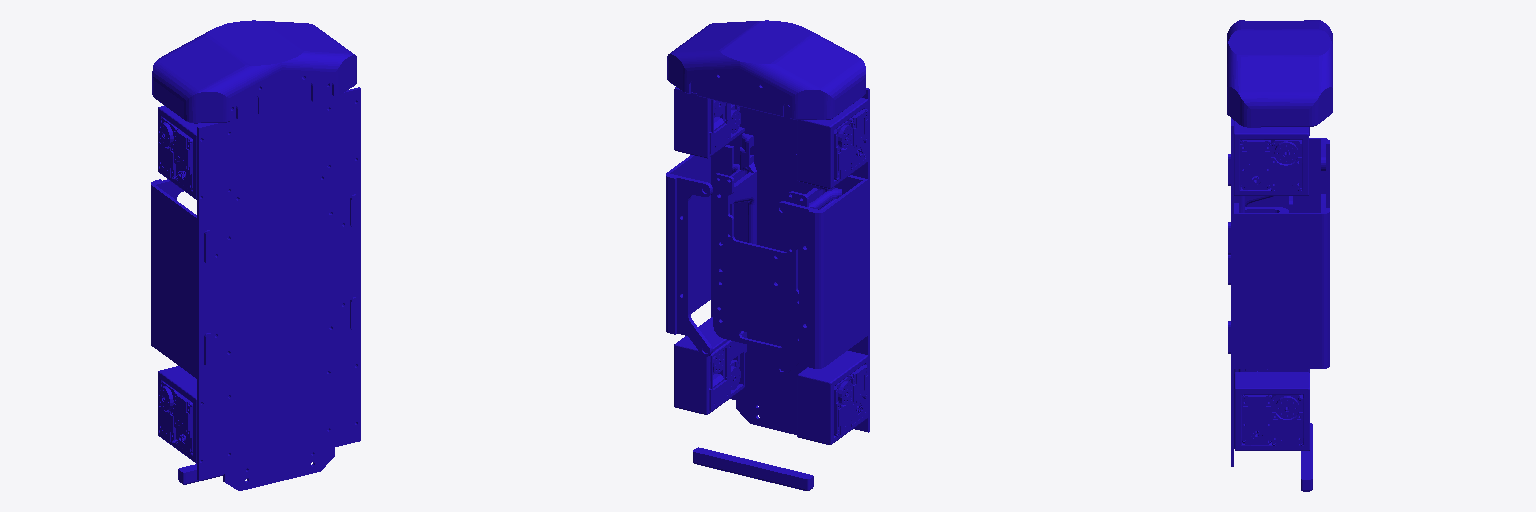
The robot description file, URDF, robot "test_robot":
<?xml version="1.0"?>
<robot name="test_robot">
  <link name="base">
    <visual>
      <geometry>
        <mesh filename="base_without_legs.stl" scale="0.001 0.001 0.001"/>
      </geometry>
      <material name="dark_blue_base">
        <color rgba="0.2 0.1 0.8 1"/>
      </material>
    </visual>
    <inertial>
      <mass value="1.15689"/>
      <origin xyz="-0.074206 -0.0795 0.175784" rpy="0 0 0"/>
      <inertia 
        ixx="0.01124" 
        ixy="0.000000001421" 
        ixz="0.000000003106" 
        iyy="0.0132" 
        iyz="-0.000000002842" 
        izz="0.001957"/>
    </inertial>
    <collision>
      <geometry>
        <mesh filename="base_without_legs.stl" scale="0.001 0.001 0.001"/>
      </geometry>
    </collision>
  </link>
  <link name="leg">
    <visual>
      <origin xyz="0.019966 -0.116723 0.086266" rpy="0 -1.5708 0"/> 
      <geometry>
        <mesh filename="RIGHT leg assembly.stl" scale="0.001 0.001 0.001"/>
      </geometry>
      <material name="red_leg">
        <color rgba="0.8 0.1 0.2 1"/>
      </material>
    </visual>
    <inertial>
        <mass value="0.897933"/>
        <origin xyz="0.019966 -0.116723 0.086266" rpy="0 0 0"/>
        <inertia 
            ixx="0.005374" 
            ixy="0.0002085" 
            ixz="0.000000104088" 
            iyy="0.0009366" 
            iyz="-0.0002651" 
            izz="0.004528"/>
    </inertial>
    <collision>
      <origin xyz="0.019966 -0.116723 0.086266" rpy="0 -1.5708 0"/> 
      <geometry> 
        <mesh filename="RIGHT leg assembly.stl" scale="0.001 0.001 0.001"/>
      </geometry>
    </collision>
  </link>

  <joint name="left_hip" type="revolute">
    <parent link="base"/>
    <child link="leg"/>
    <origin xyz="0.009728 -0.034753 0.07782" rpy="0 0 0"/>
    <axis xyz="1.0 -0.000777 0.0005"/>
    <limit effort="10" velocity="100.0" lower="-1.57" upper="1.57"/>
  </joint>
</robot>

--- Facts derived from the render (not from the file) ---
3 views of the same robot in one strip: view 1: azimuth 30°, elevation 25°; view 2: azimuth 150°, elevation 25°; view 3: azimuth 270°, elevation 25° (orthographic).
Model test_robot with 2 links and 1 joints (1 revolute), rooted at base, posed all joints at 0.
Links seen in each view (by area): view 1: base; view 2: base; view 3: base.
Link boxes in pixels (bbox=[...]): base: bbox=[151, 20, 360, 490]; base: bbox=[666, 20, 869, 490]; base: bbox=[1227, 20, 1332, 491].
Size in the robot's own frame: 0.1577 by 0.0875 by 0.3806 metres.
Meshes: 2 distinct files referenced, 1 mesh visuals loaded (1 binary STL); not drawn: 1 (reference not matched to a file when rendering).